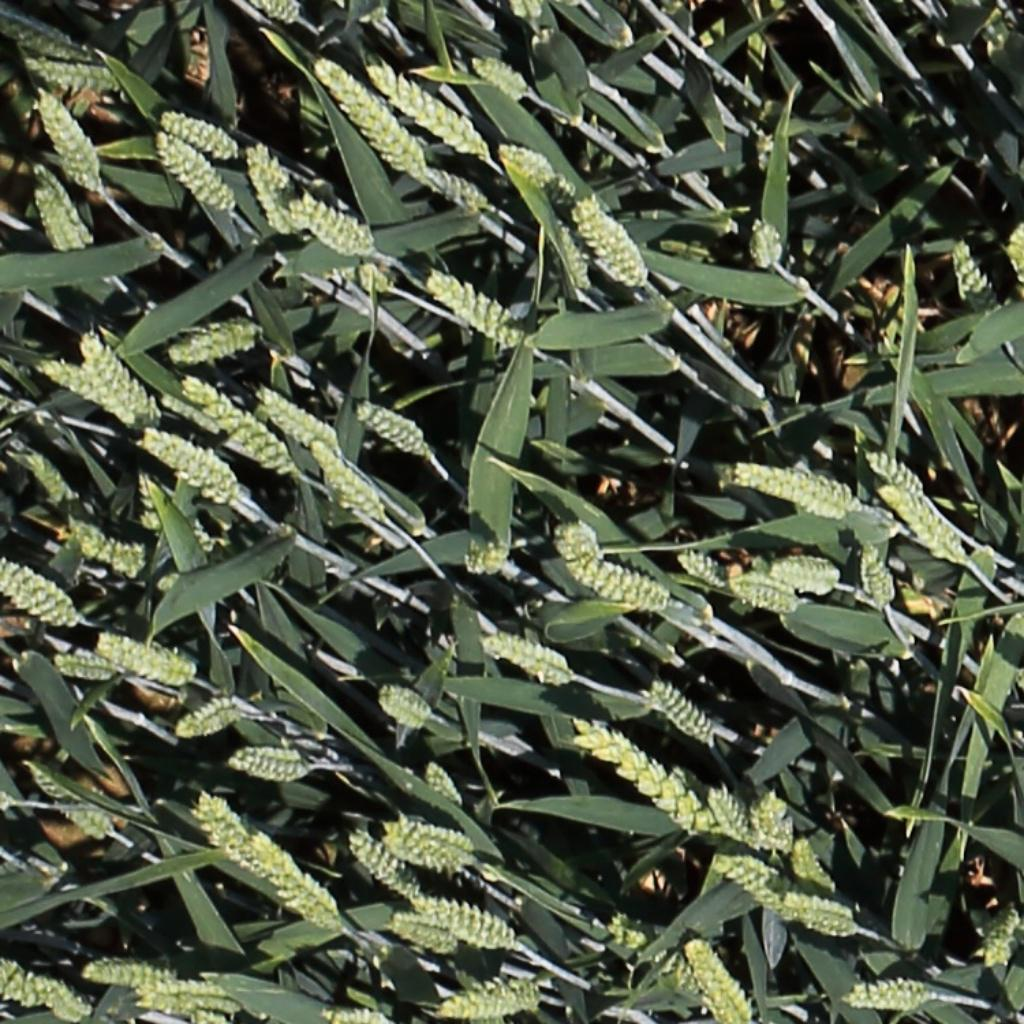0-0: (570, 717, 741, 859), (311, 58, 437, 178), (361, 64, 494, 166), (178, 374, 303, 479), (723, 458, 890, 533), (136, 431, 261, 524), (876, 480, 982, 585), (423, 270, 540, 359), (27, 756, 128, 853), (259, 832, 348, 936), (570, 196, 656, 299), (281, 176, 387, 258), (699, 837, 801, 922), (122, 468, 219, 557), (148, 126, 239, 218), (238, 140, 313, 248), (192, 791, 278, 885), (0, 558, 93, 643), (73, 327, 157, 421), (303, 438, 393, 525), (31, 83, 101, 191), (701, 773, 776, 862), (681, 931, 752, 1024), (253, 387, 345, 457), (299, 241, 403, 301), (90, 629, 204, 682), (31, 158, 95, 252), (562, 552, 664, 610), (352, 401, 439, 469), (38, 359, 132, 421), (409, 894, 513, 950), (430, 972, 548, 1021), (160, 386, 246, 450), (495, 141, 587, 199), (342, 831, 416, 903), (477, 636, 574, 689), (155, 109, 245, 165), (450, 530, 529, 591), (218, 746, 330, 789), (645, 681, 715, 749), (862, 449, 938, 510), (774, 887, 862, 939), (547, 522, 618, 586), (135, 973, 245, 1014), (946, 232, 999, 316), (81, 949, 181, 992), (65, 525, 146, 577), (765, 550, 843, 604), (30, 176, 84, 253), (724, 558, 798, 614), (170, 690, 256, 738), (5, 20, 92, 66), (415, 167, 494, 216), (746, 783, 799, 855), (544, 215, 592, 294), (837, 978, 940, 1014), (856, 537, 899, 622), (163, 323, 256, 361), (382, 832, 462, 875), (20, 445, 72, 510), (978, 902, 1024, 973), (793, 824, 841, 892), (23, 57, 116, 91), (375, 680, 436, 729), (416, 756, 465, 815), (385, 914, 457, 954), (390, 821, 471, 856), (38, 976, 94, 1024), (749, 211, 785, 285), (0, 957, 50, 1008), (468, 54, 527, 96), (674, 550, 727, 591), (603, 912, 645, 954), (49, 655, 118, 679), (320, 1005, 399, 1024), (1006, 233, 1024, 294), (258, 0, 299, 23)
